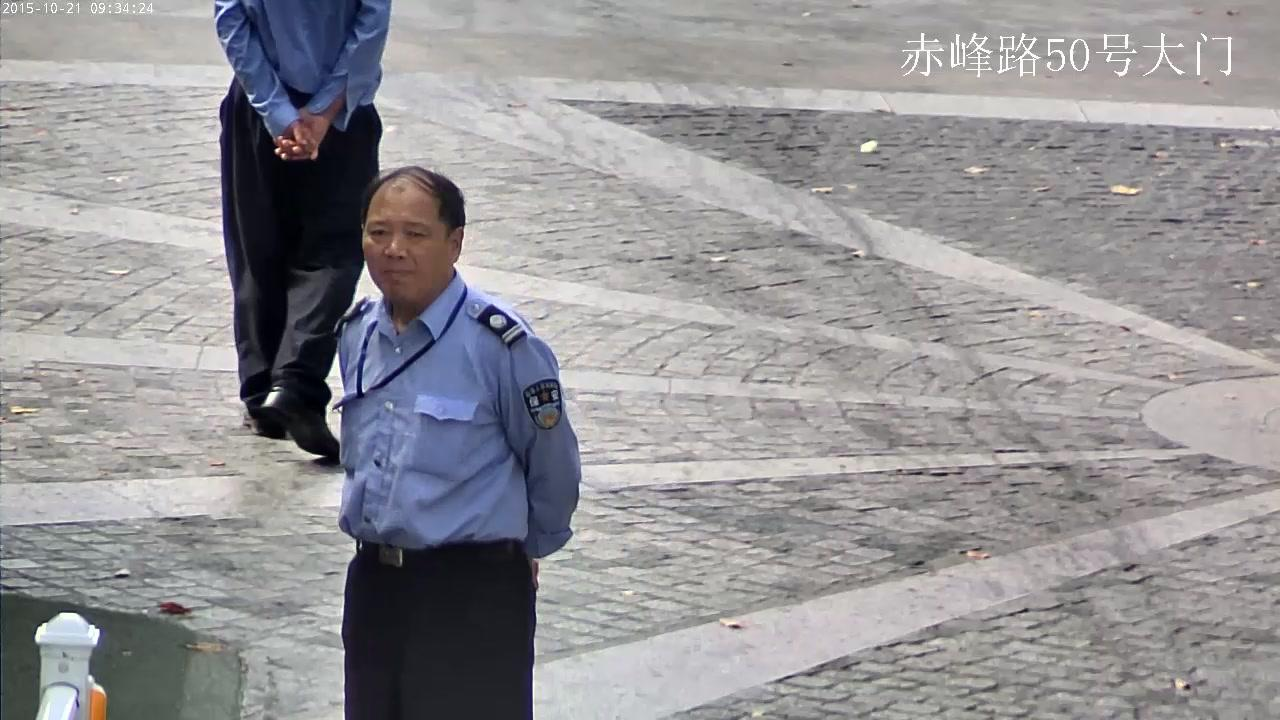person: (331, 167, 579, 720), (213, 0, 389, 466)
